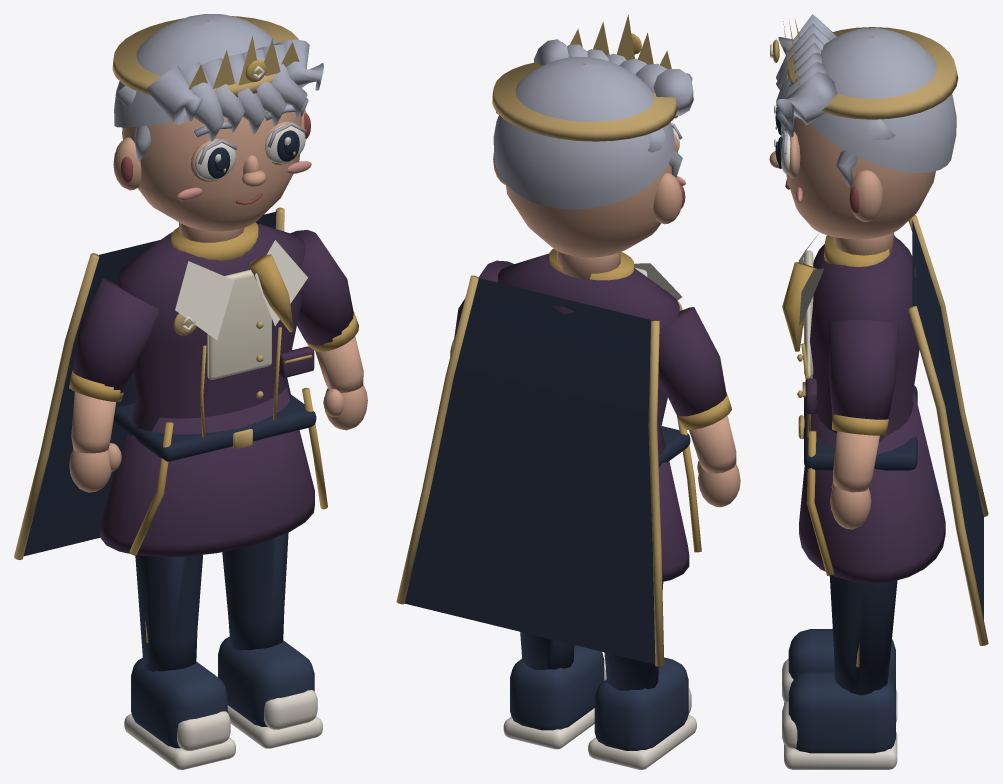
The model's file is xingyin-characters-v1__trainer_boss.glb.
The picture shows the model from 3 angles, left to right: view 1: azimuth 30°, elevation 25°; view 2: azimuth 150°, elevation 25°; view 3: azimuth 270°, elevation 25°; orthographic projection. The views are drawn at different scales.
Parts seen in each view (by area): view 1: figure.007; view 2: figure.007; view 3: figure.007.
Part boxes in pixels (left/top/right/bottom): figure.007: left=14, top=14, right=367, bottom=769; figure.007: left=396, top=14, right=740, bottom=769; figure.007: left=769, top=14, right=988, bottom=769.
Bounding box in the file's own units: 1.06 × 2.5 × 0.6908.
